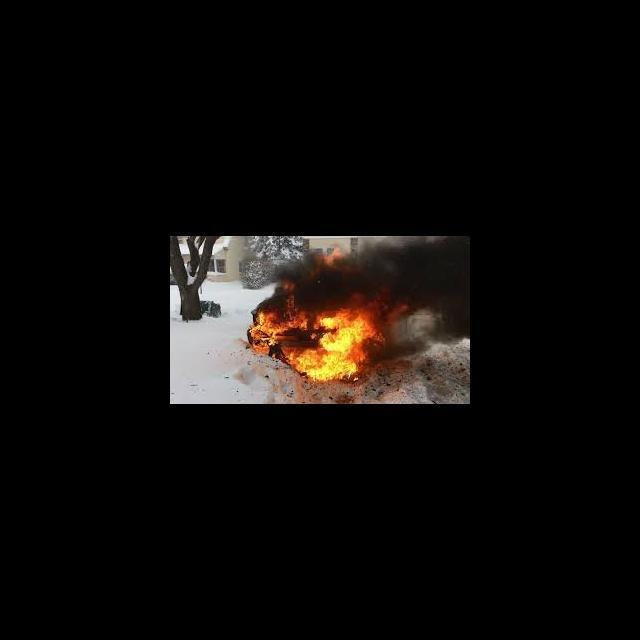Fire: (296, 290, 406, 382), (250, 282, 304, 351), (324, 246, 345, 268)
Smoke: (408, 236, 469, 340), (347, 238, 405, 288), (276, 253, 322, 280), (304, 269, 345, 289)
